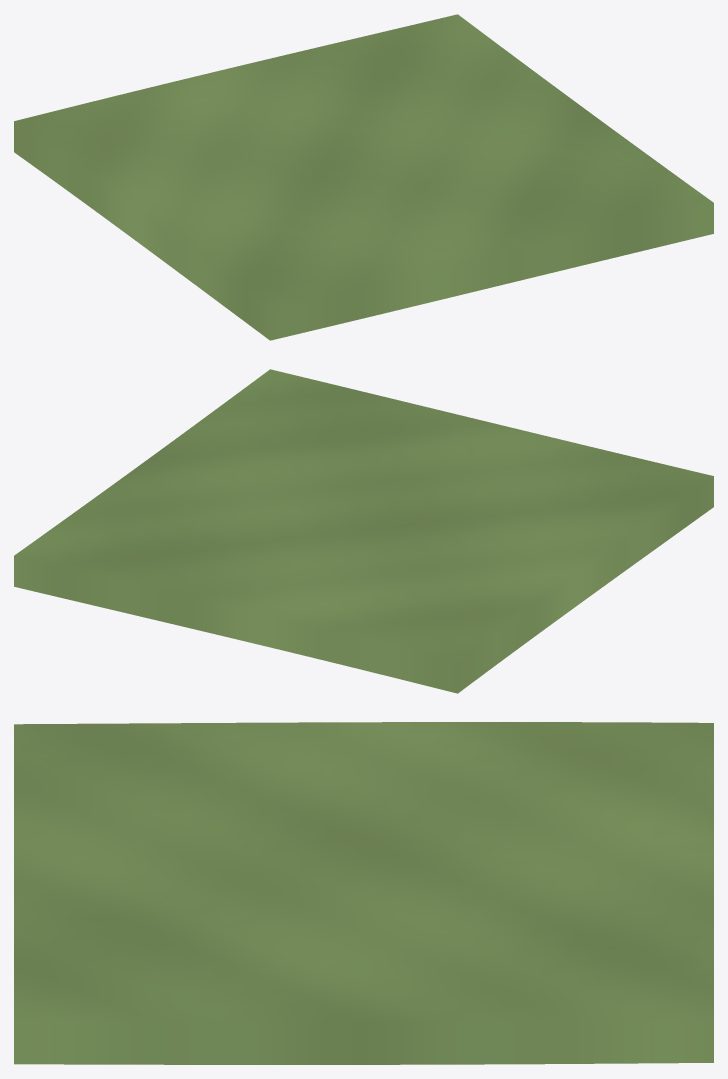
3 views of the same model, one above another, from view 1: azimuth 30°, elevation 25°; view 2: azimuth 150°, elevation 25°; view 3: azimuth 270°, elevation 25° (orthographic). The views are drawn at different scales.
Visible parts, largest first — view 1: terrain; view 2: terrain; view 3: terrain.
Boxes of the visible parts, x1,y1,x2,y2 form: terrain: (14,14,713,340); terrain: (14,369,713,693); terrain: (14,722,713,1064).
Size of the model in its own units: 30 by 2.24 by 30.
